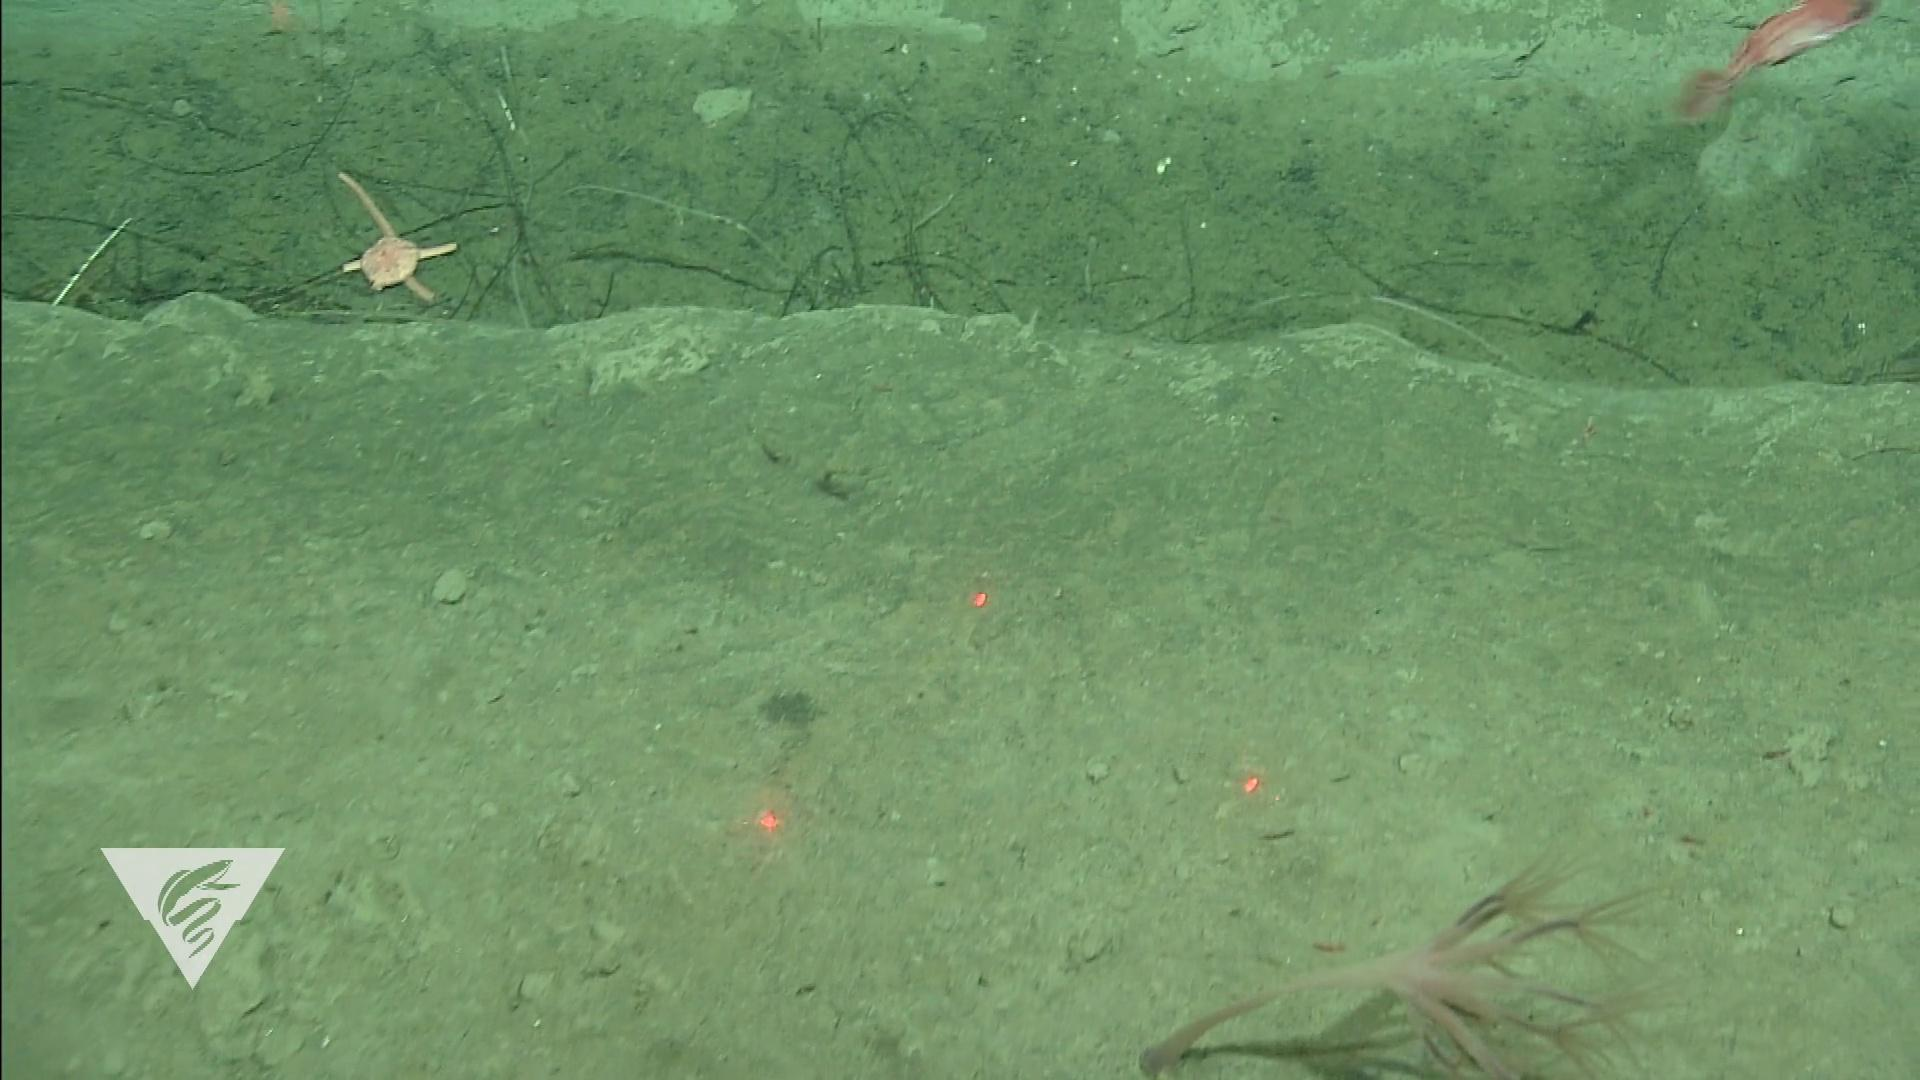Brittle Star: (338, 173, 459, 303)
